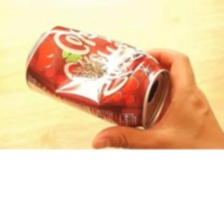can: (13, 24, 176, 128)
